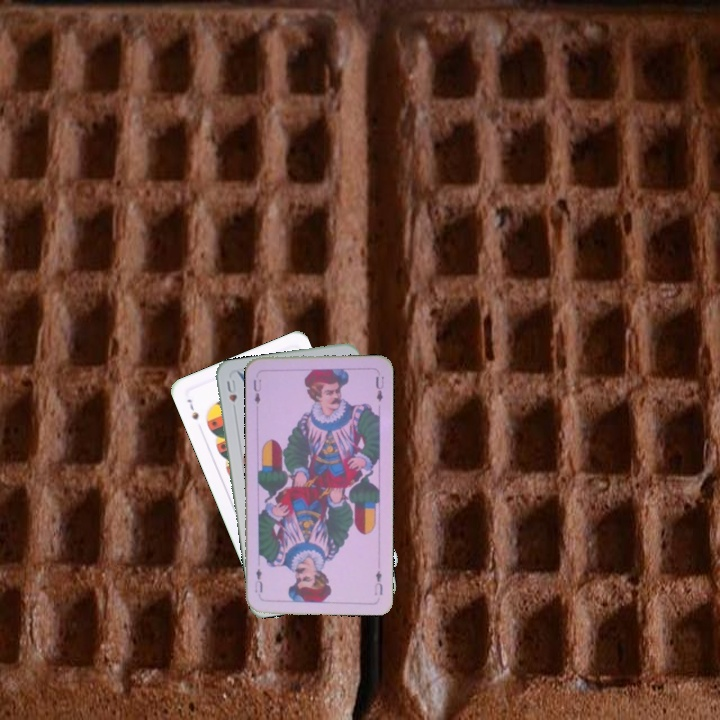EU: (370, 567, 385, 598), (249, 376, 264, 406)
HU: (223, 375, 240, 405)
S7: (183, 395, 201, 422)
